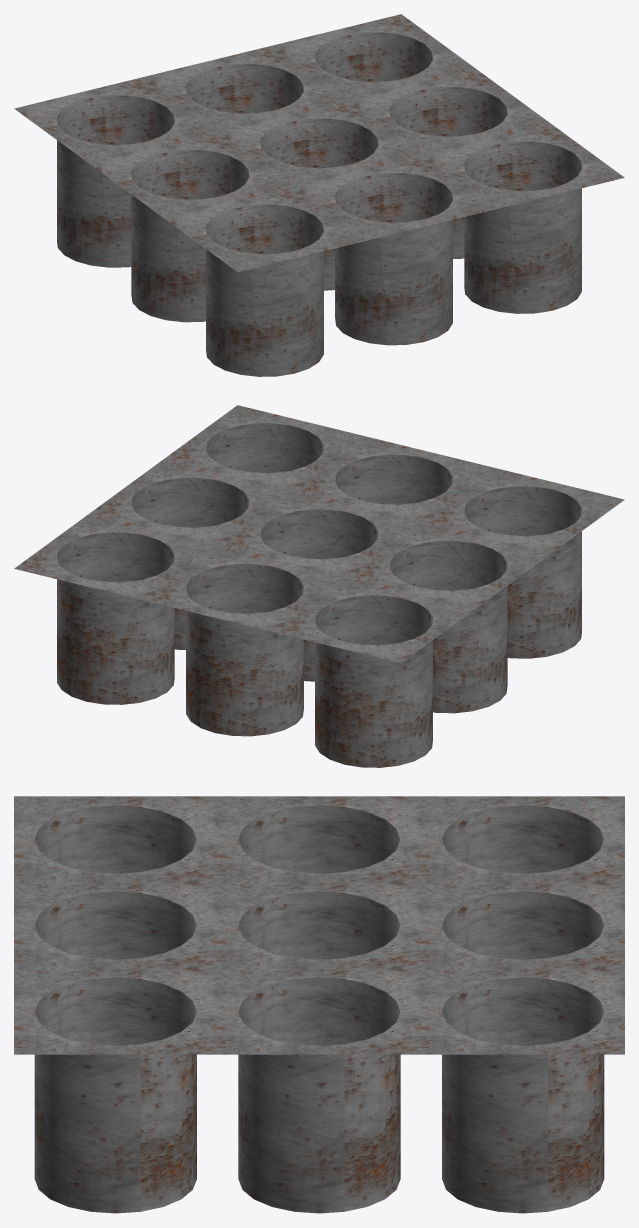
File: StreetGrate.fbx
3 views of the same model, one above another, from view 1: azimuth 30°, elevation 25°; view 2: azimuth 150°, elevation 25°; view 3: azimuth 270°, elevation 25° (orthographic). The views are drawn at different scales.
Visible parts, largest first — view 1: polySurface11; view 2: polySurface11; view 3: polySurface11.
Part boxes in pixels (<box>): polySurface11: <box>14,14,624,376</box>; polySurface11: <box>14,405,624,767</box>; polySurface11: <box>14,796,624,1213</box>.
Size of the model in its own units: 3 by 0.9079 by 3.
